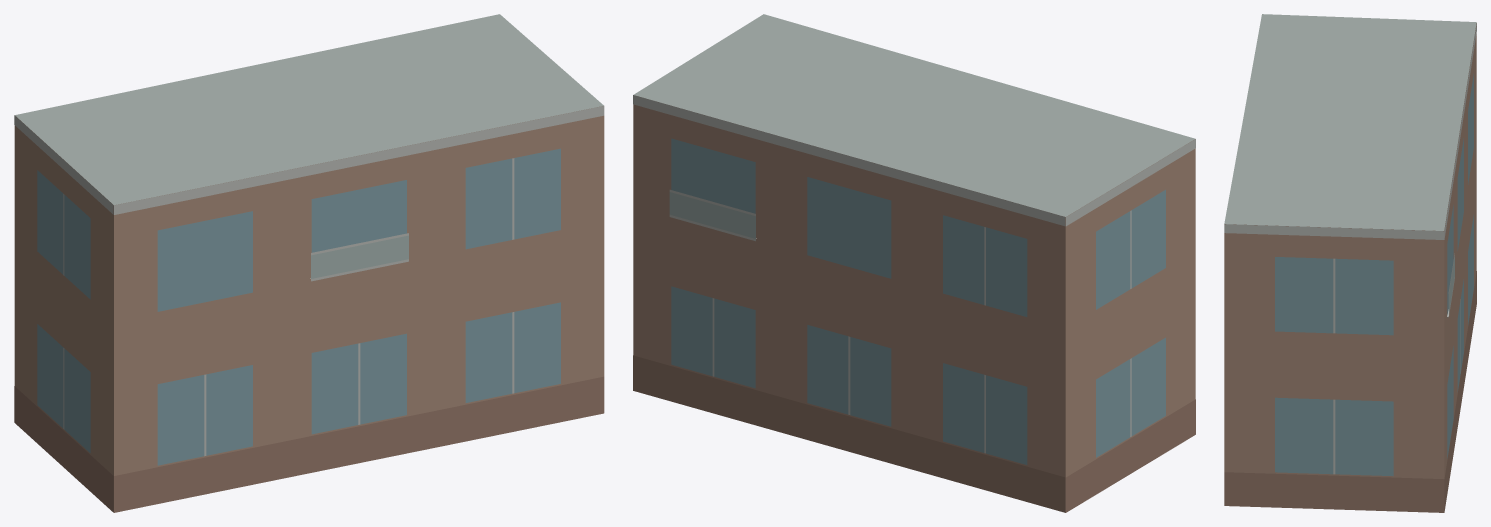
The model's file is survey-upis-32559737.glb.
3 views of the same model, side by side, from view 1: azimuth 30°, elevation 25°; view 2: azimuth 150°, elevation 25°; view 3: azimuth 270°, elevation 25° (orthographic). The views are drawn at different scales.
Visible parts, largest first — view 1: survey-upis-32559737.tmp; view 2: survey-upis-32559737.tmp; view 3: survey-upis-32559737.tmp.
Part boxes in pixels (box(x1,y1,x2,y2)): survey-upis-32559737.tmp: box(14, 14, 604, 512); survey-upis-32559737.tmp: box(633, 14, 1195, 512); survey-upis-32559737.tmp: box(1224, 14, 1476, 512).
Bounding box in the file's own units: 12.56 × 7.6 × 6.18.
